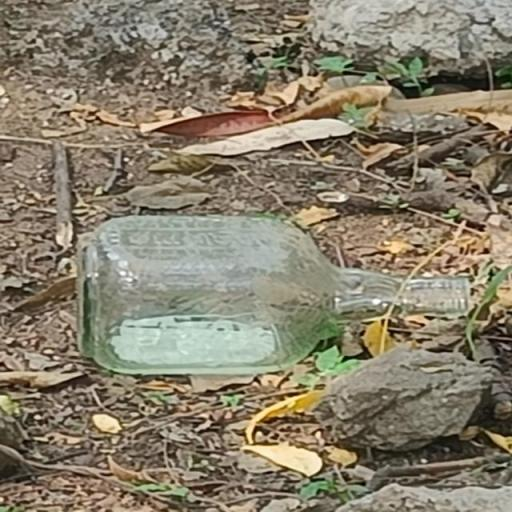glass: (62, 206, 488, 392)
